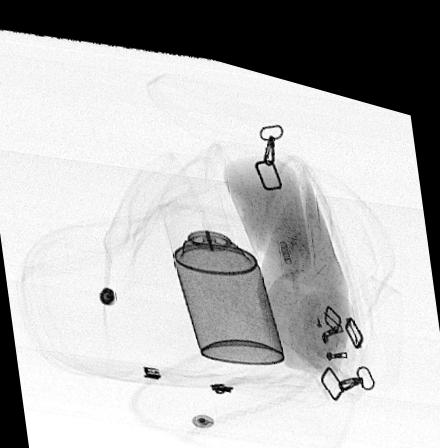Sprayer: (155, 193, 284, 351)
